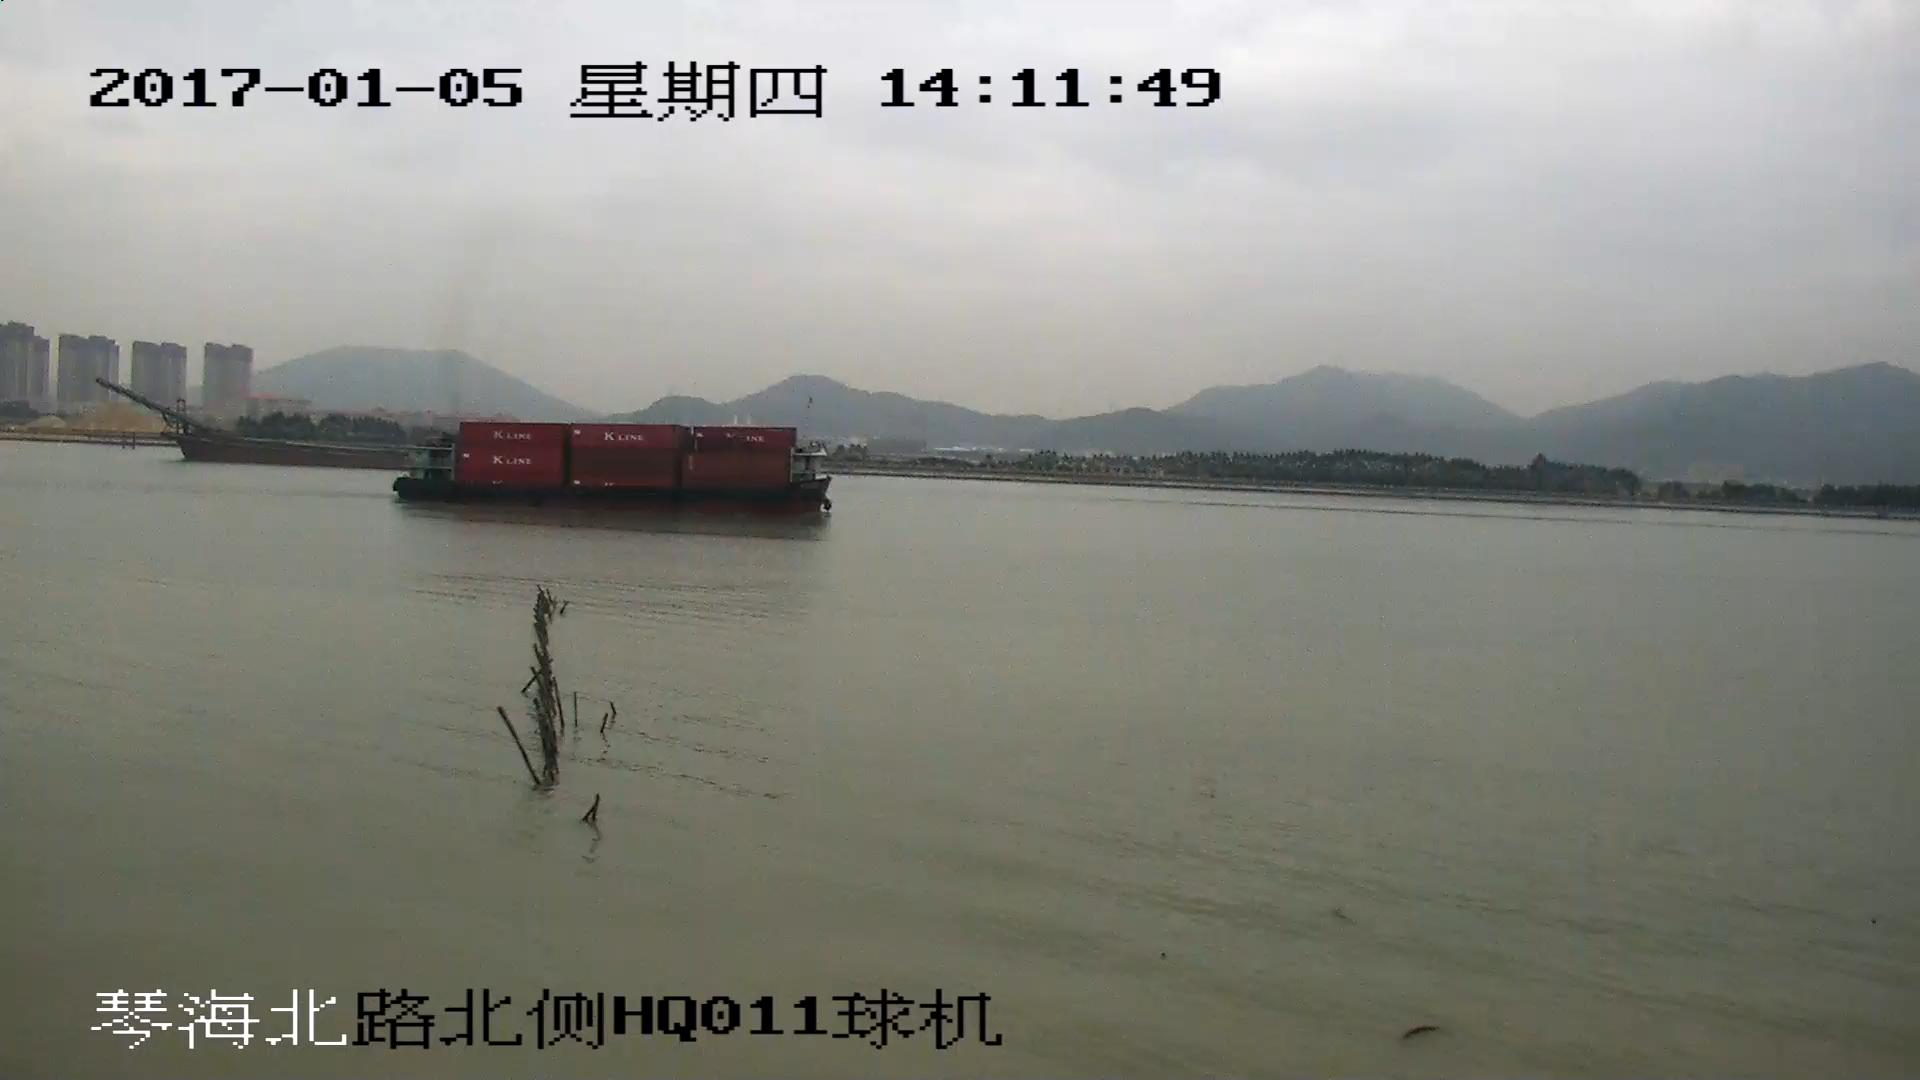bulk cargo carrier: (93, 382, 396, 469)
container ship: (393, 419, 828, 526)
